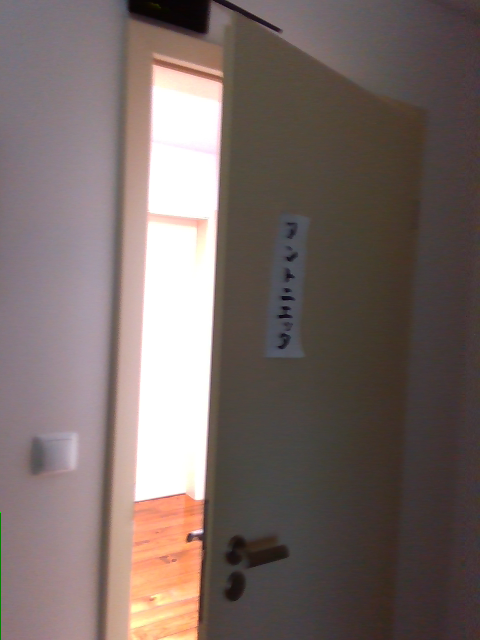semi: (97, 21, 425, 639)
